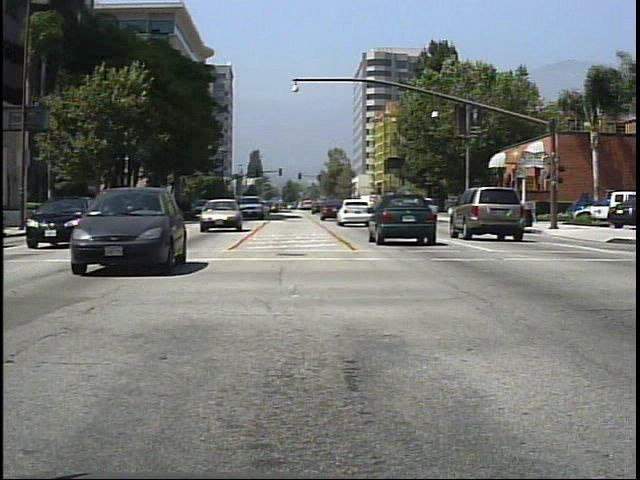person: (512, 195, 530, 231), (480, 190, 498, 225)
